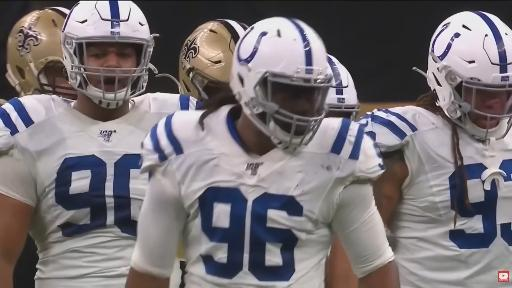Helmet: (230, 17, 332, 151), (427, 11, 511, 139), (62, 1, 157, 108), (6, 7, 75, 97), (179, 20, 247, 99), (326, 55, 359, 120)
Jersey: (142, 106, 383, 287), (0, 93, 196, 287), (360, 106, 511, 287)
Player: (127, 18, 399, 287), (0, 1, 195, 287), (360, 11, 511, 287), (6, 7, 76, 99), (178, 20, 247, 103), (179, 20, 247, 101), (326, 55, 359, 120)
